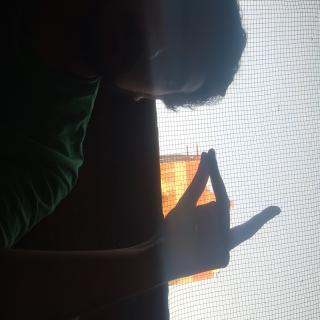TAA: (110, 48, 216, 228)
